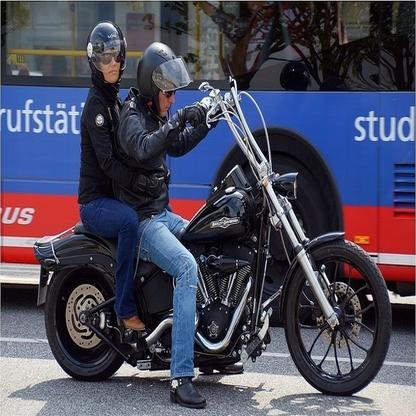target: (33, 19, 393, 411)
